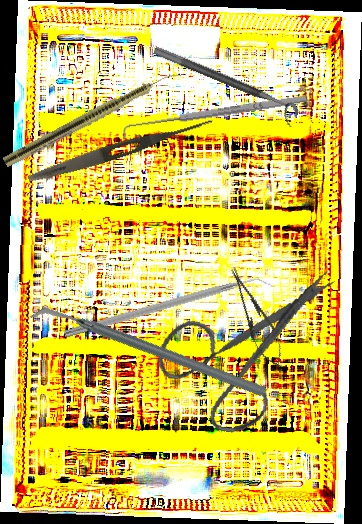Chopper: (26, 233, 269, 472), (63, 270, 276, 350)
Dressing Forceps: (26, 111, 215, 188)
Fixation Ring: (147, 45, 302, 128)
Handpiece: (1, 64, 183, 171)
Hook Surgical: (119, 92, 311, 140)
Iris Scissors: (147, 240, 338, 447)
Needle Holder: (221, 262, 292, 374)
